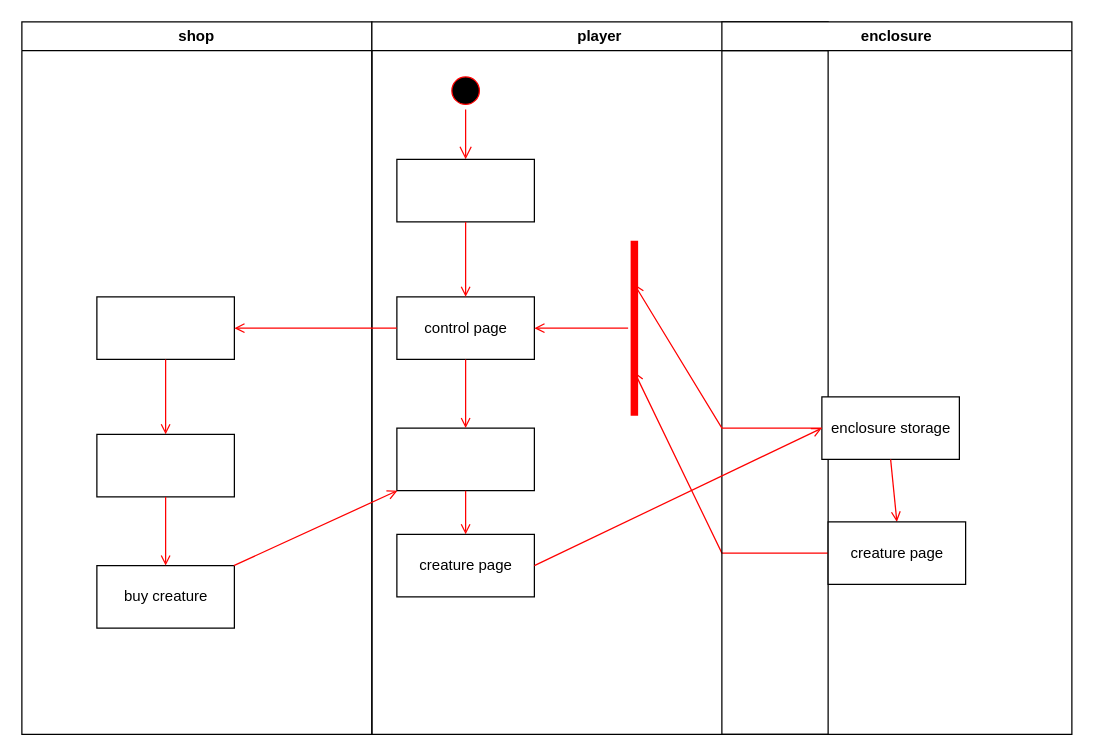
Image size: 1094x756. Some labels were removed from this diagram. The shapes that lost their labels are listed below. From the top down, each one's centre as x and y in pixels, then its label:
At (x=465, y=190): "start game/welcome".
At (x=165, y=327): "shop activated".
At (x=165, y=465): "user selection".
At (x=465, y=459): "user creature storage".
